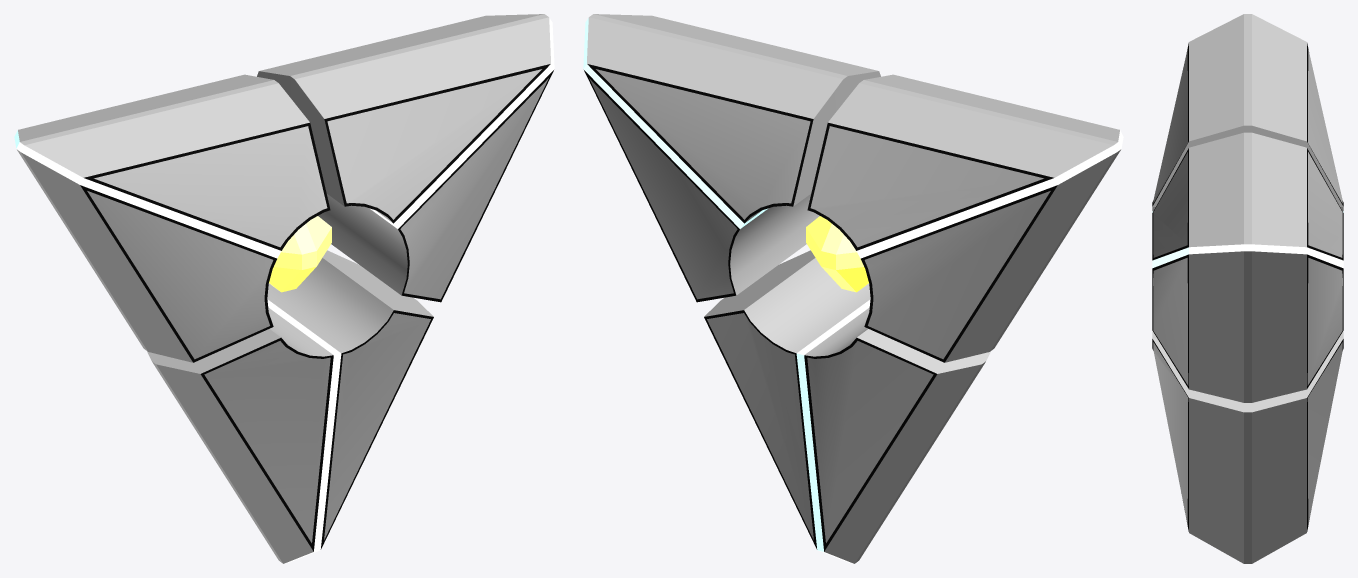
File: Crystals.fbx
3 views of the same model, side by side, from view 1: azimuth 30°, elevation 25°; view 2: azimuth 150°, elevation 25°; view 3: azimuth 270°, elevation 25° (orthographic). The views are drawn at different scales.
Visible parts, largest first — view 1: Crystal; view 2: Crystal; view 3: Crystal.
Part boxes in pixels (x1=…): Crystal: x1=14, y1=14, x2=554, y2=563; Crystal: x1=583, y1=14, x2=1123, y2=563; Crystal: x1=1152, y1=14, x2=1343, y2=563.
Size of the model in its own units: 2.21 by 0.7643 by 1.91.
